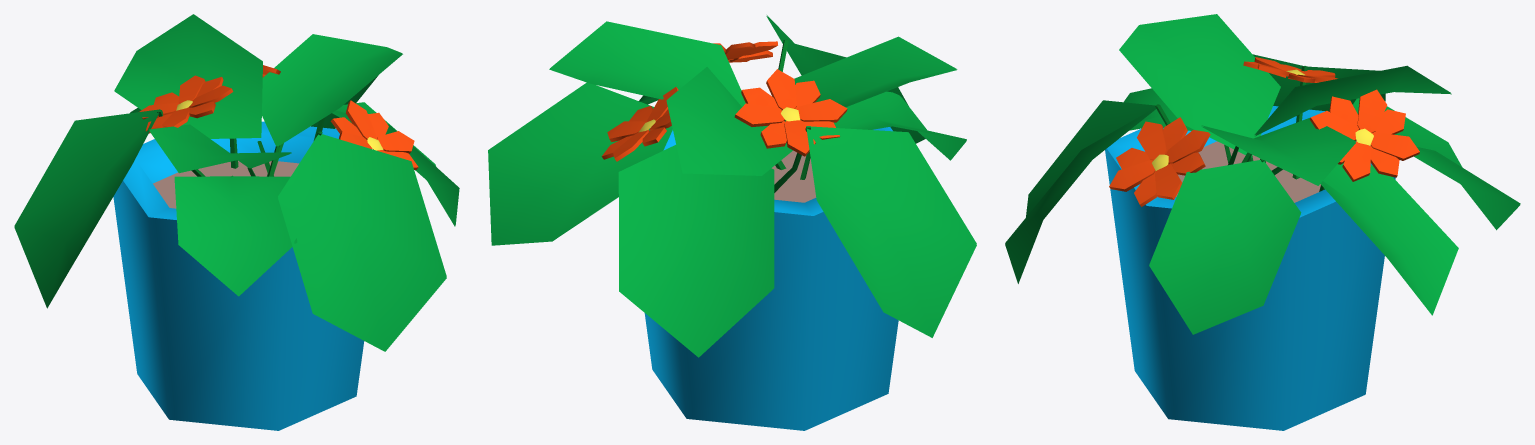
The model's file is Flores.obj.
3 renders of one model, left to right at view 1: azimuth 30°, elevation 25°; view 2: azimuth 150°, elevation 25°; view 3: azimuth 270°, elevation 25°, orthographic. The views are drawn at different scales.
Parts seen in each view (by area): view 1: flower_001; view 2: flower_001; view 3: flower_001.
Boxes of the visible parts, x1,y1,x2,y2 form: flower_001: (14, 14, 459, 430); flower_001: (488, 15, 976, 430); flower_001: (1005, 14, 1520, 430).
Size of the model in its own units: 2.79 by 2.18 by 3.11.
Materials: 1 (1 with a texture image).
